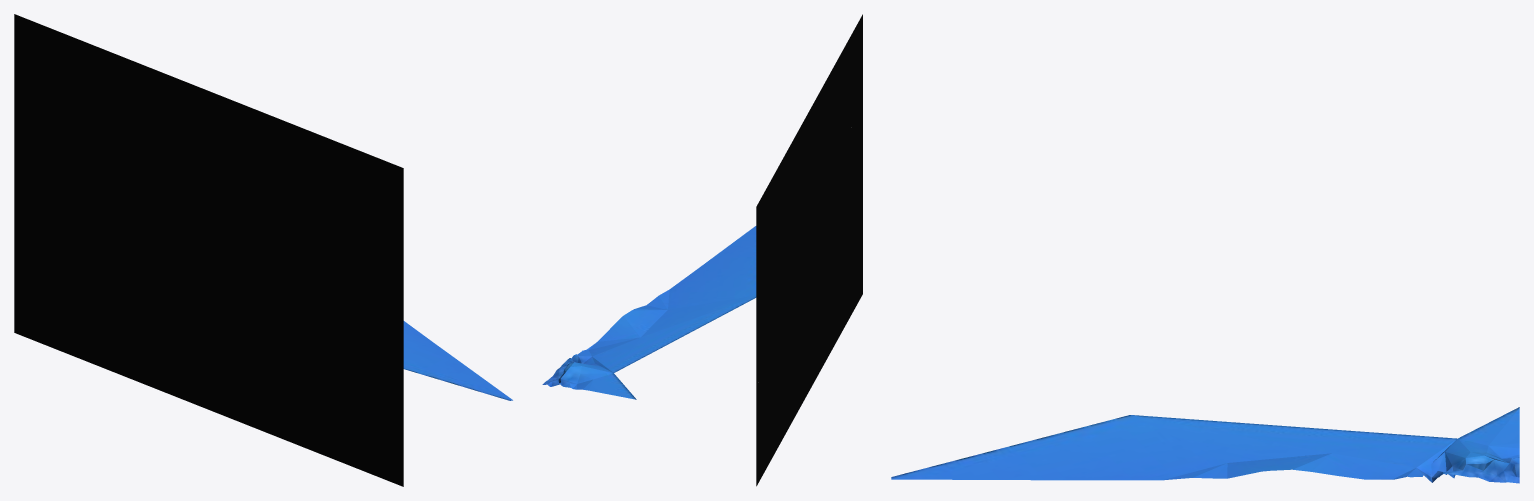
The picture shows the model from 3 angles, left to right: view 1: azimuth 30°, elevation 25°; view 2: azimuth 150°, elevation 25°; view 3: azimuth 270°, elevation 25°; orthographic projection. The views are drawn at different scales.
Size of the model in its own units: 7.2 by 9 by 13.06.
2 materials, 2 textured.
